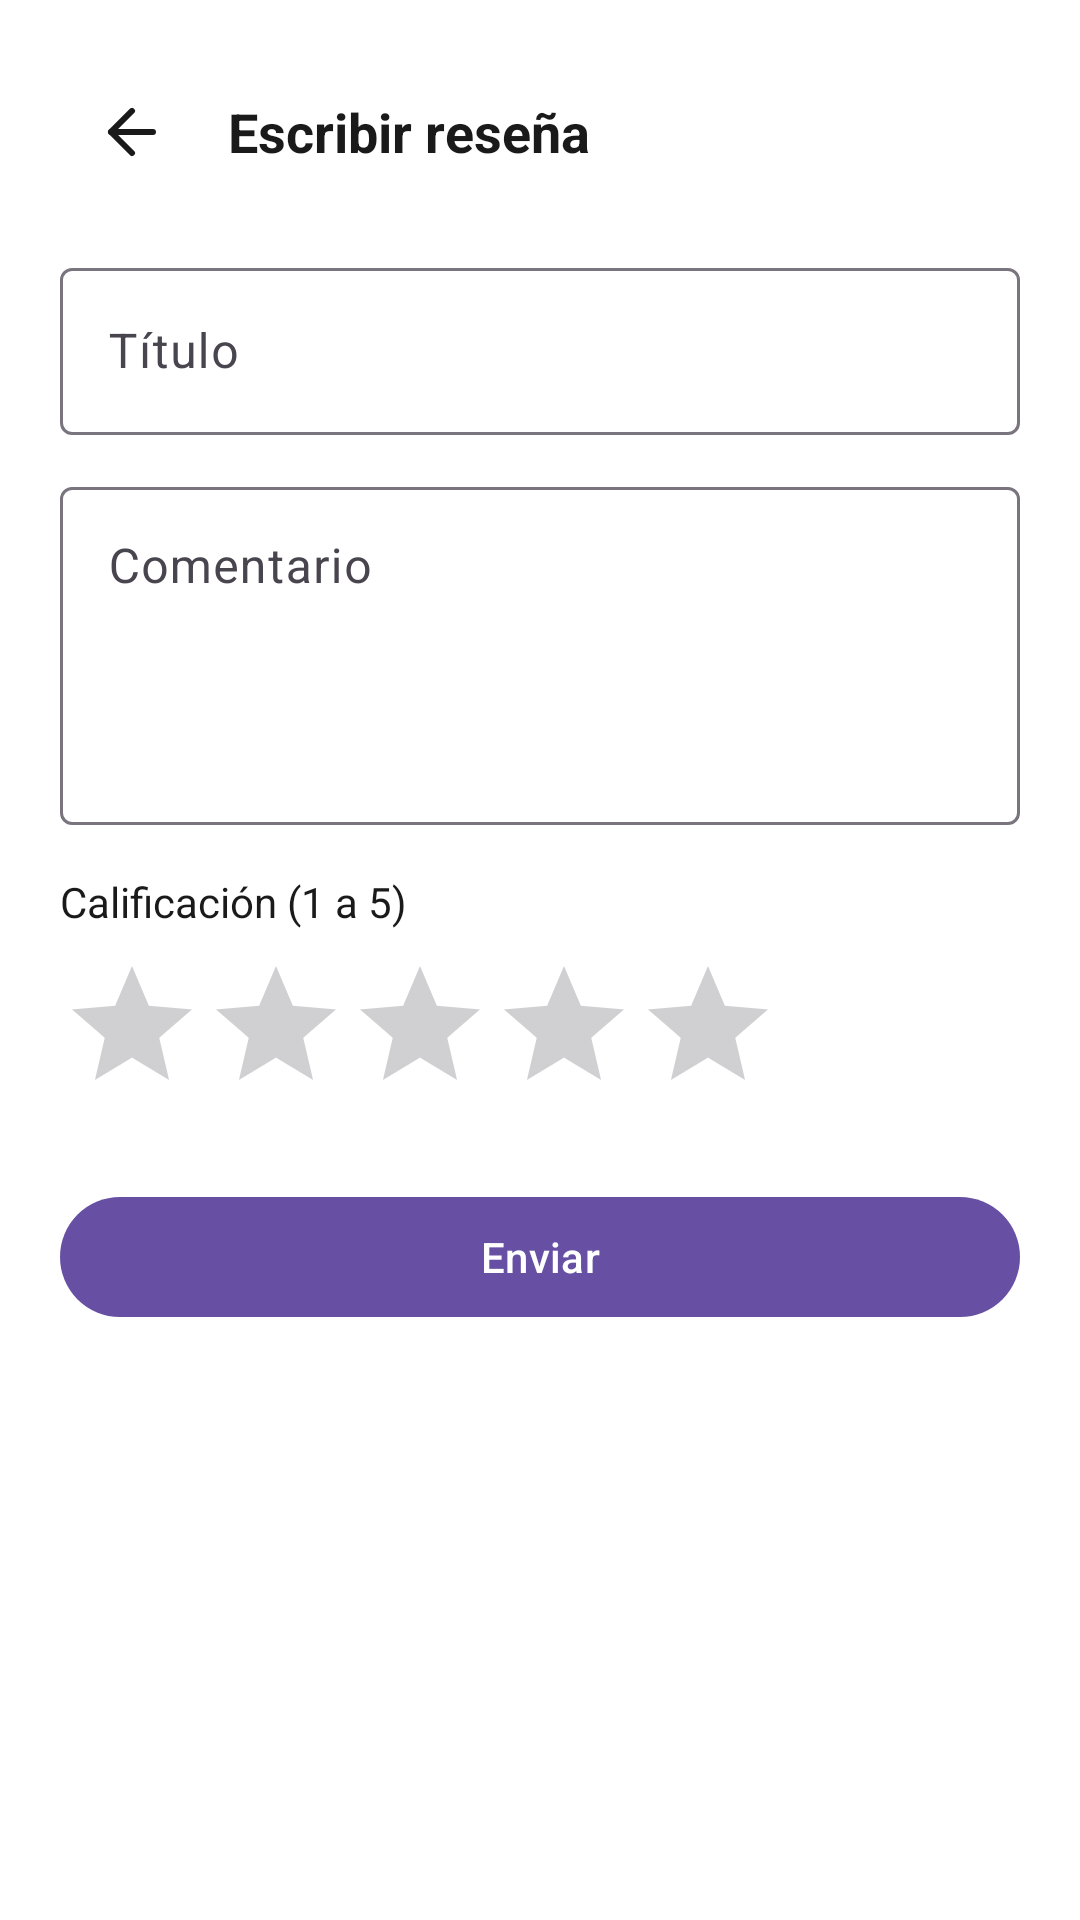

Screen size 1080×1920. Icon name, then its center in pixels as [x,y]:
arrow back: [132,132]
